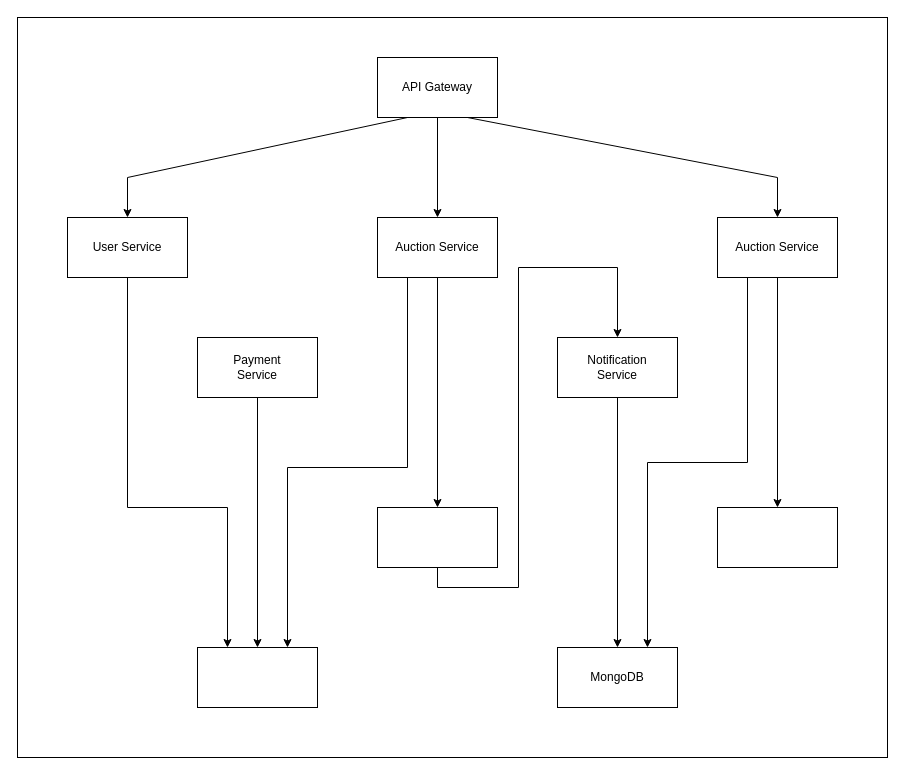
This 905x775 diagram has some shape labels left out. The centre of each missing label's shape, as x and y in pixels:
Kafka: the point at 437,537
PostgreSQL: the point at 257,677
Redis: the point at 777,537
